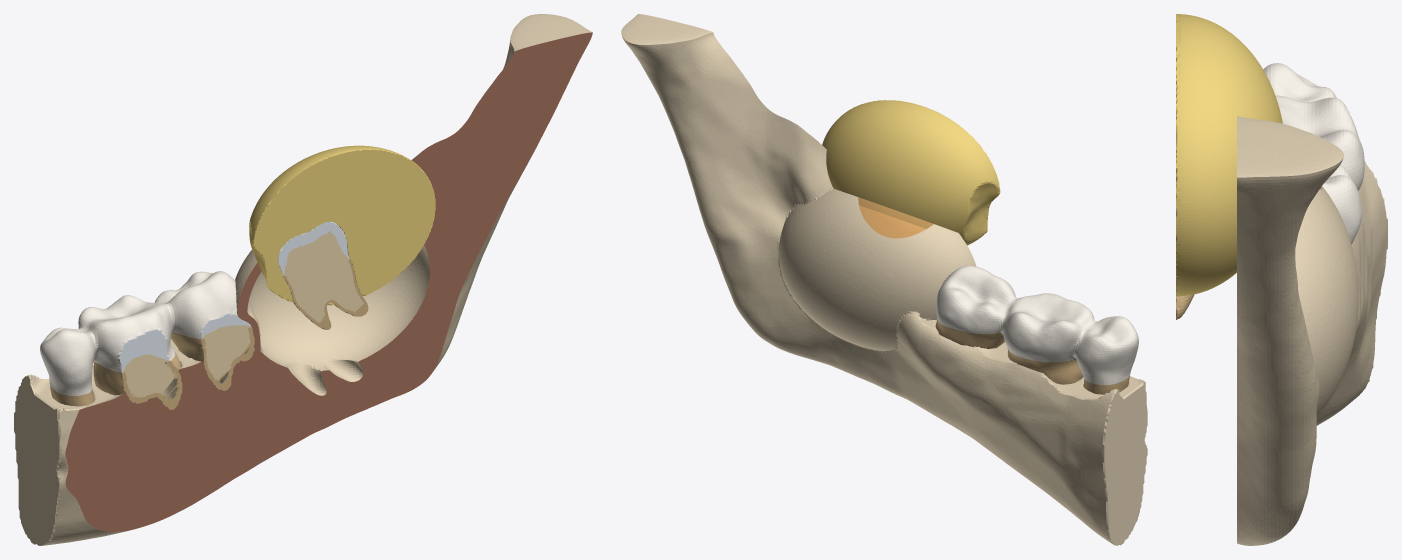
File: enucleation-during.glb
The picture shows the model from 3 angles, left to right: view 1: azimuth 30°, elevation 25°; view 2: azimuth 150°, elevation 25°; view 3: azimuth 270°, elevation 25°; orthographic projection. The views are drawn at different scales.
Parts seen in each view (by area): view 1: bone cut, bone, cyst cut, teeth, third molar cut 4, teeth cut 4, cyst, teeth roots, teeth cut 2, teeth cut 3, third molar cut 2, third molar cut 3; view 2: bone, cyst, teeth, teeth roots, removed bone; view 3: bone, cyst, teeth, third molar roots.
Boxes of the visible parts, box(x1,y1,x2,y2) form: bone cut: box(65, 32, 592, 531); bone: box(14, 14, 591, 545); cyst cut: box(253, 149, 435, 303); teeth: box(40, 271, 243, 395); third molar cut 4: box(284, 230, 363, 322); teeth cut 4: box(122, 325, 250, 398); cyst: box(249, 145, 435, 305); teeth roots: box(50, 332, 253, 406); teeth cut 2: box(119, 313, 250, 372); teeth cut 3: box(121, 327, 254, 410); third molar cut 2: box(278, 222, 349, 275); third molar cut 3: box(284, 260, 368, 329); bone: box(621, 14, 1147, 545); cyst: box(822, 100, 1000, 245); teeth: box(936, 265, 1138, 384); teeth roots: box(935, 320, 1129, 394); removed bone: box(858, 197, 933, 238); bone: box(1237, 116, 1387, 545); cyst: box(1176, 14, 1282, 296); teeth: box(1263, 63, 1364, 242); third molar roots: box(1176, 294, 1194, 319).
Size of the model in its own units: 81.87 by 59.05 by 17.39.
